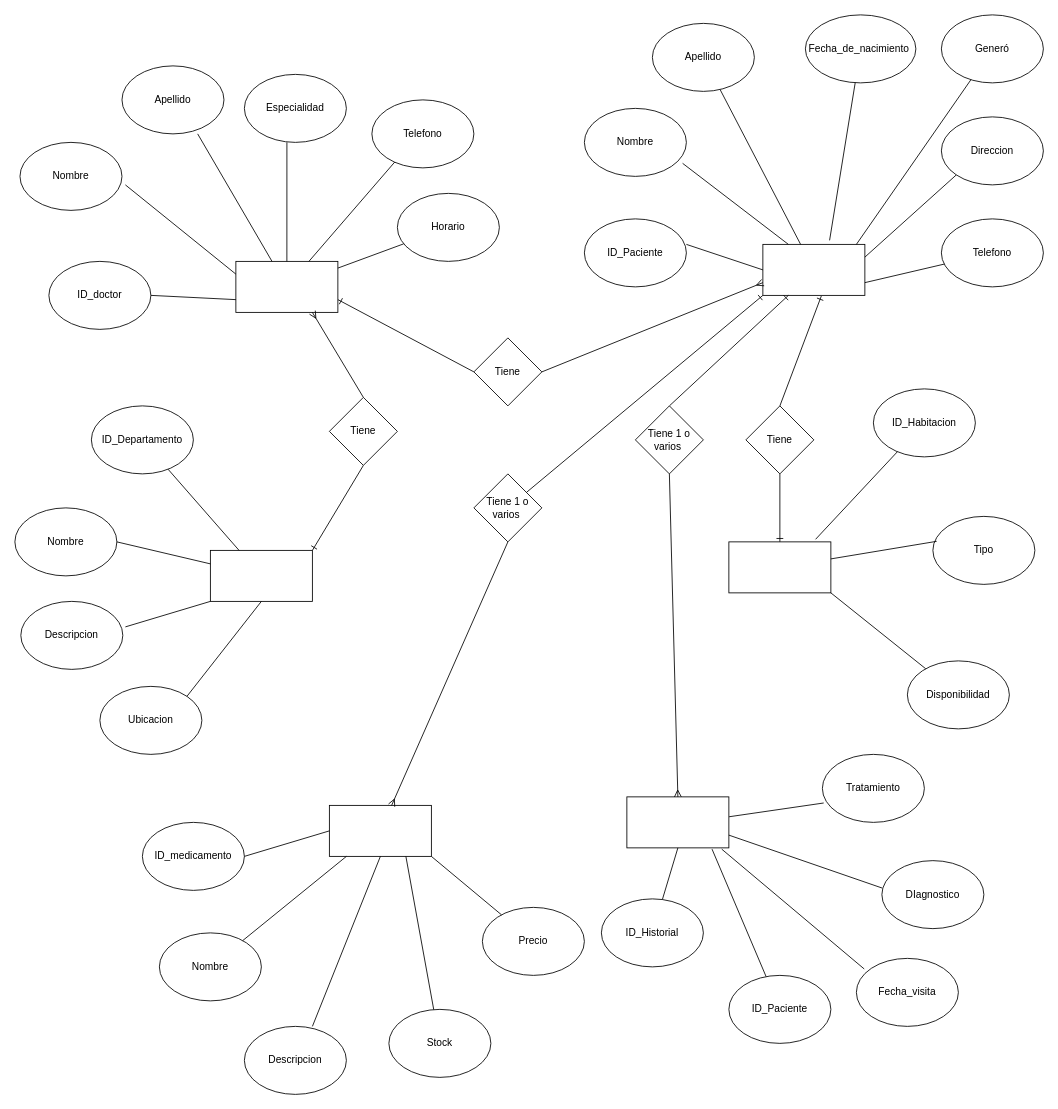
This 1058x1109 diagram has some shape labels left out. The shapes that lost their labels are listed below. From the top down, each one's centre as x and y in pixels, then its label:
At [286,286]: "Doctor".
At [813,269]: "Paciente".
At [261,575]: "Departamento".
At [779,567]: "Habitaciones".
At [380,830]: "Medicamento".
At [677,822]: "Historial Medico".
